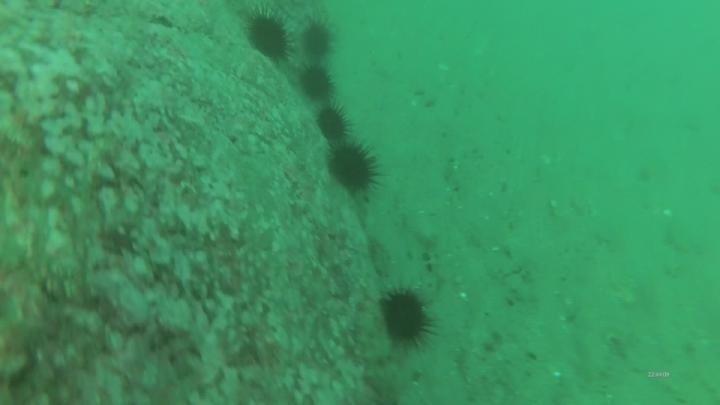echinus: (376, 285, 436, 349), (325, 139, 383, 196), (243, 9, 294, 64), (299, 18, 337, 61), (313, 103, 352, 143), (296, 64, 336, 102)
